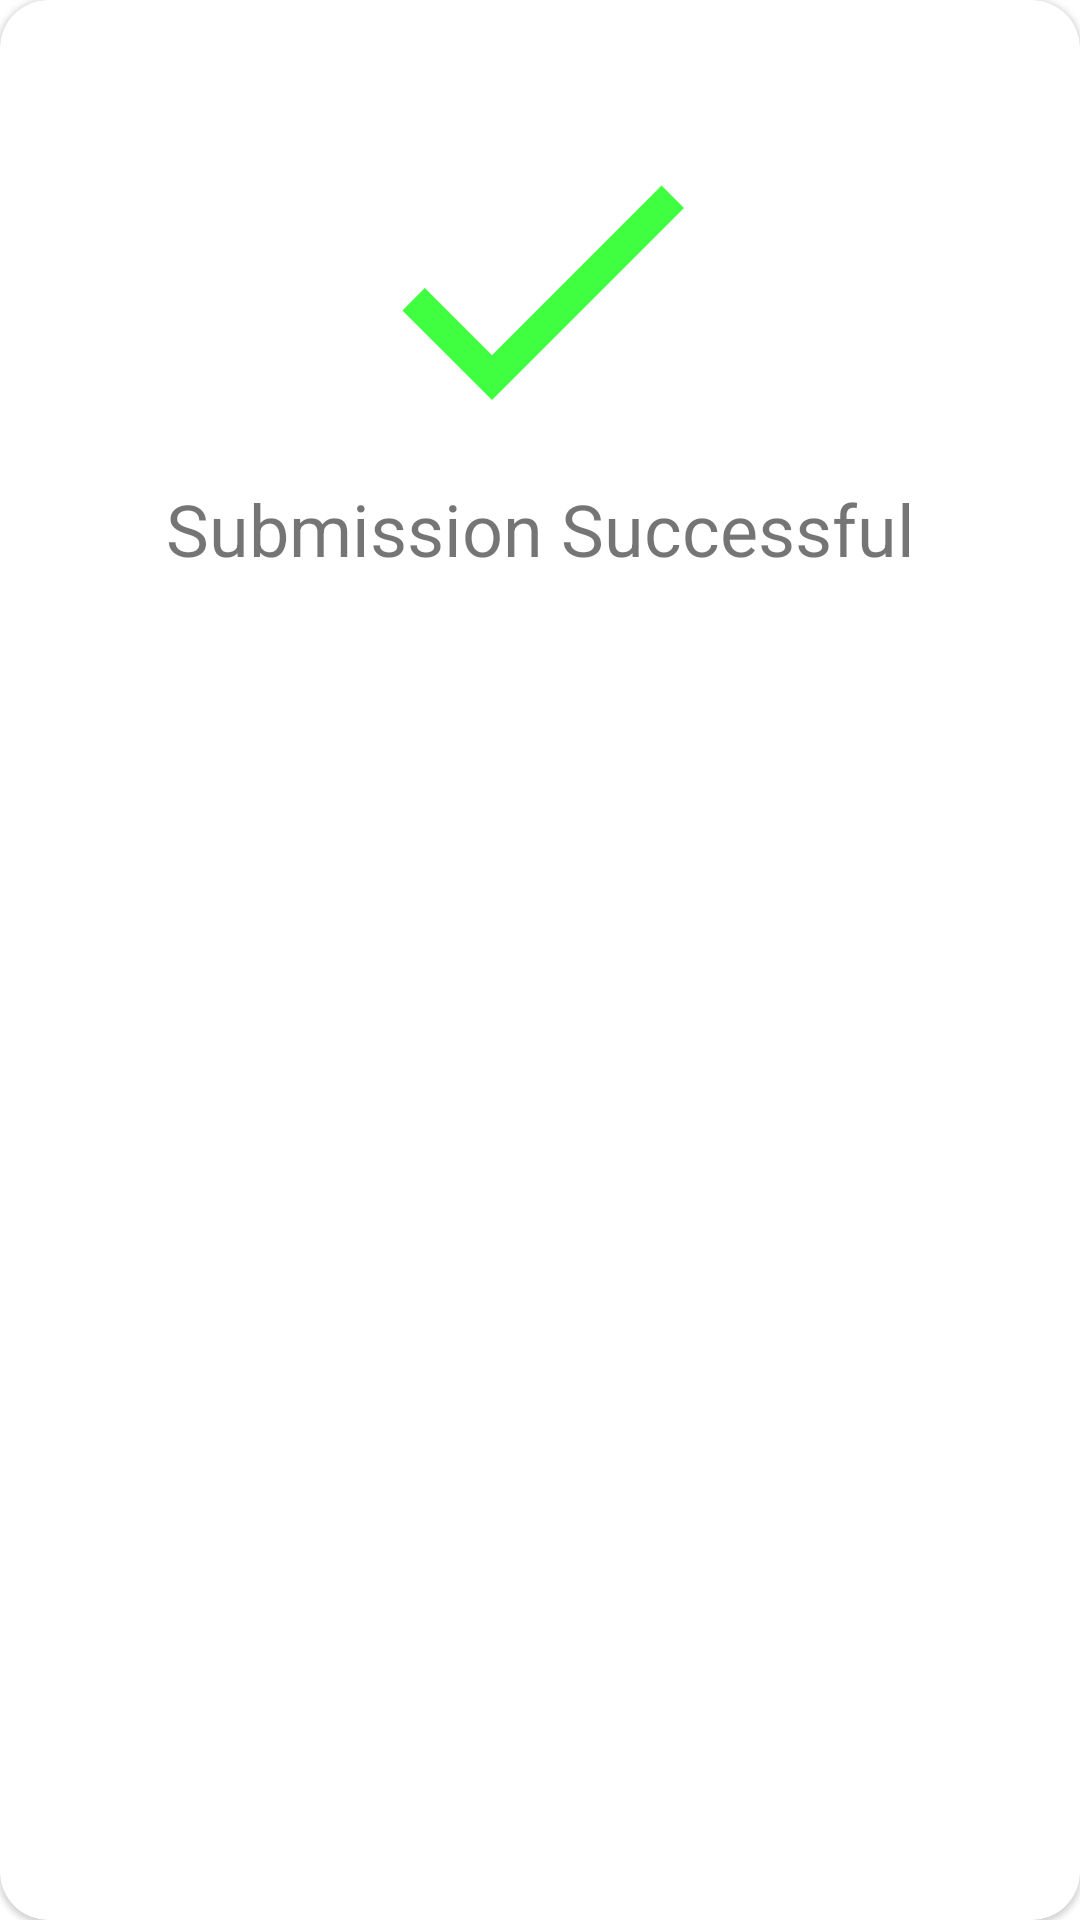

Screen size 1080*1920. Icon name, then its center in pixels as (x,y):
done: (543,292)
